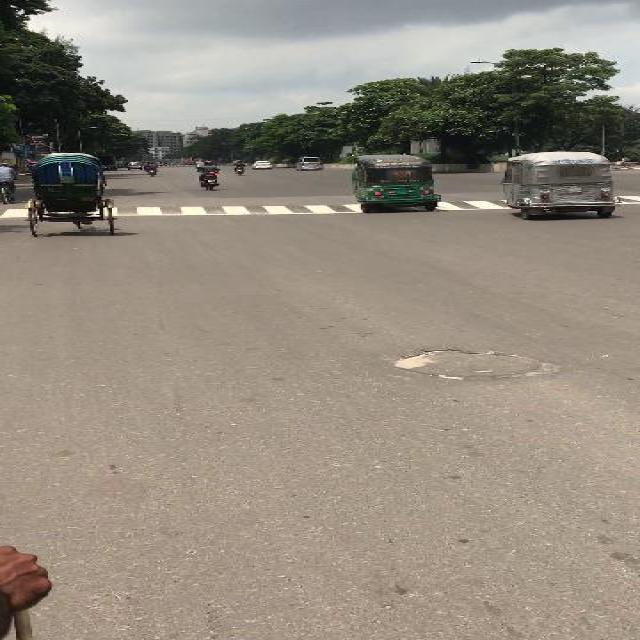10: (196, 159, 220, 189), (232, 159, 244, 175), (145, 162, 157, 176)
11: (125, 160, 142, 170)
13: (22, 152, 116, 238)
17: (497, 150, 619, 220), (347, 153, 442, 213)
5: (251, 160, 272, 168)
9: (292, 156, 322, 170)
Motorcycle: (0, 162, 18, 204), (620, 156, 628, 166)
Truck: (180, 156, 193, 164)
